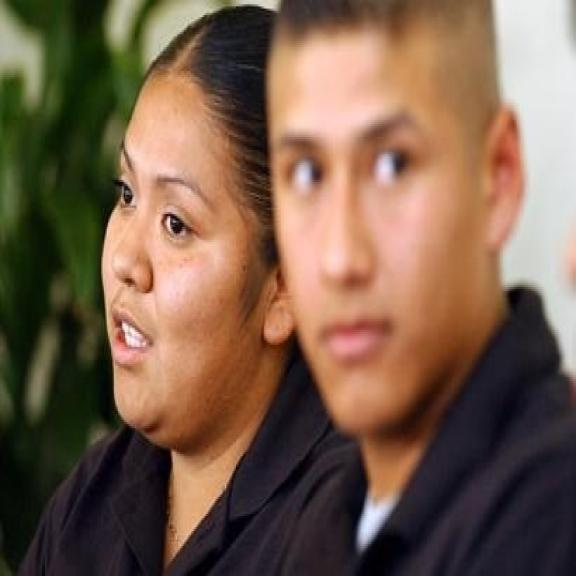face: (268, 7, 531, 439), (97, 39, 295, 449)
